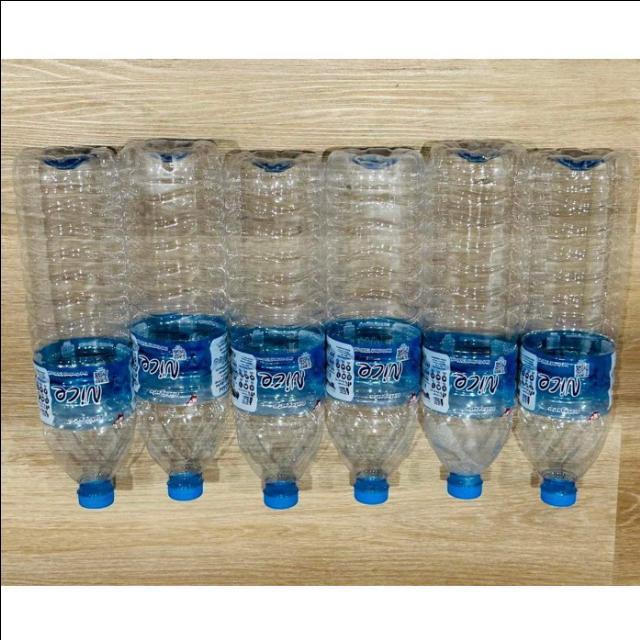PET Bottle: (4, 139, 140, 523), (112, 127, 239, 515), (510, 122, 630, 522), (224, 134, 328, 518), (418, 127, 514, 531), (330, 135, 425, 518)
